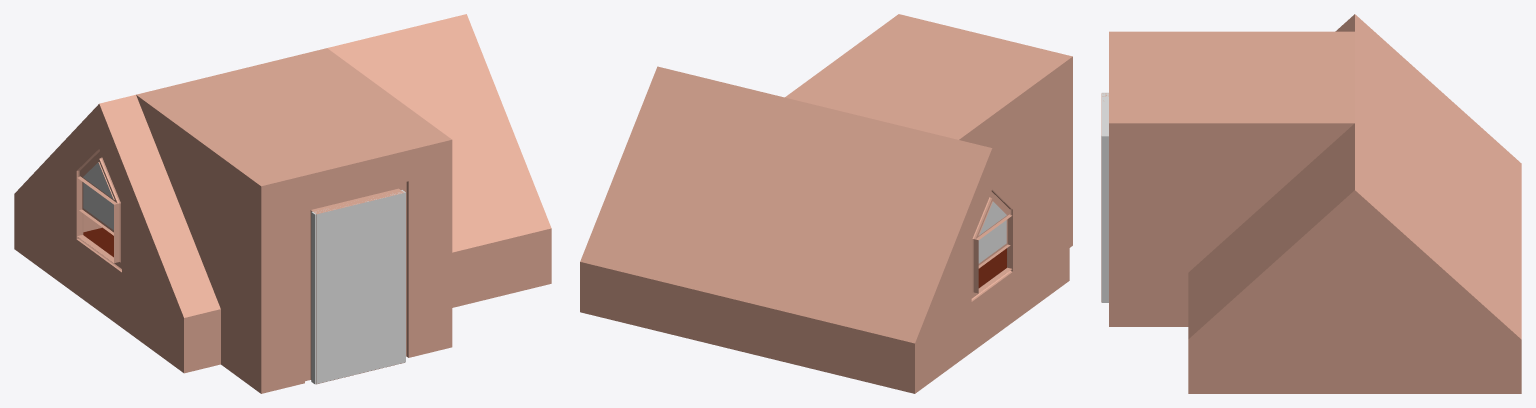
Rendered from paravoid_bedroom_LOW.fbx.
3 views of the same model, side by side, from view 1: azimuth 30°, elevation 25°; view 2: azimuth 150°, elevation 25°; view 3: azimuth 270°, elevation 25° (orthographic). The views are drawn at different scales.
Visible parts, largest first — view 1: attic_low, door_low; view 2: attic_low; view 3: attic_low, door_low.
Boxes of the visible parts, x1,y1,x2,y2 form: attic_low: [14, 14, 551, 393]; door_low: [311, 190, 405, 384]; attic_low: [580, 14, 1072, 393]; attic_low: [1101, 14, 1521, 393]; door_low: [1101, 92, 1108, 302].
Size of the model in its own units: 505 by 270 by 504.
